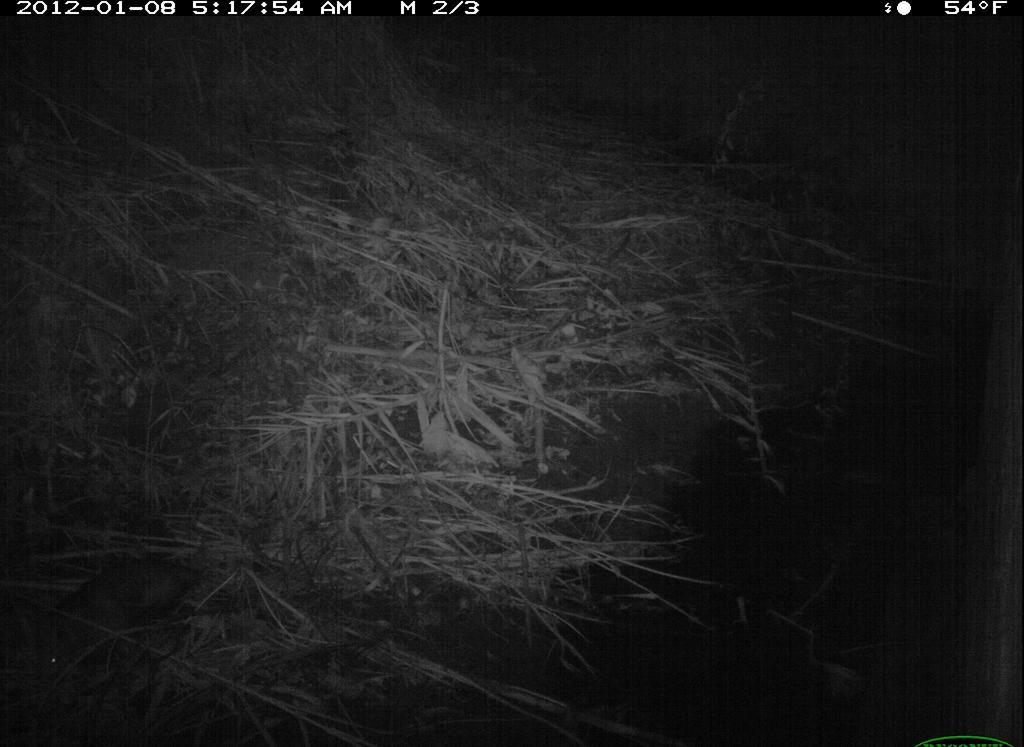opossum: (29, 543, 214, 684)
